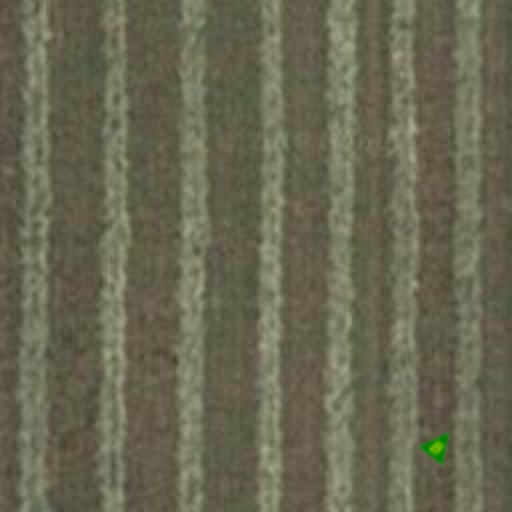triangle: (416, 420, 464, 468)
